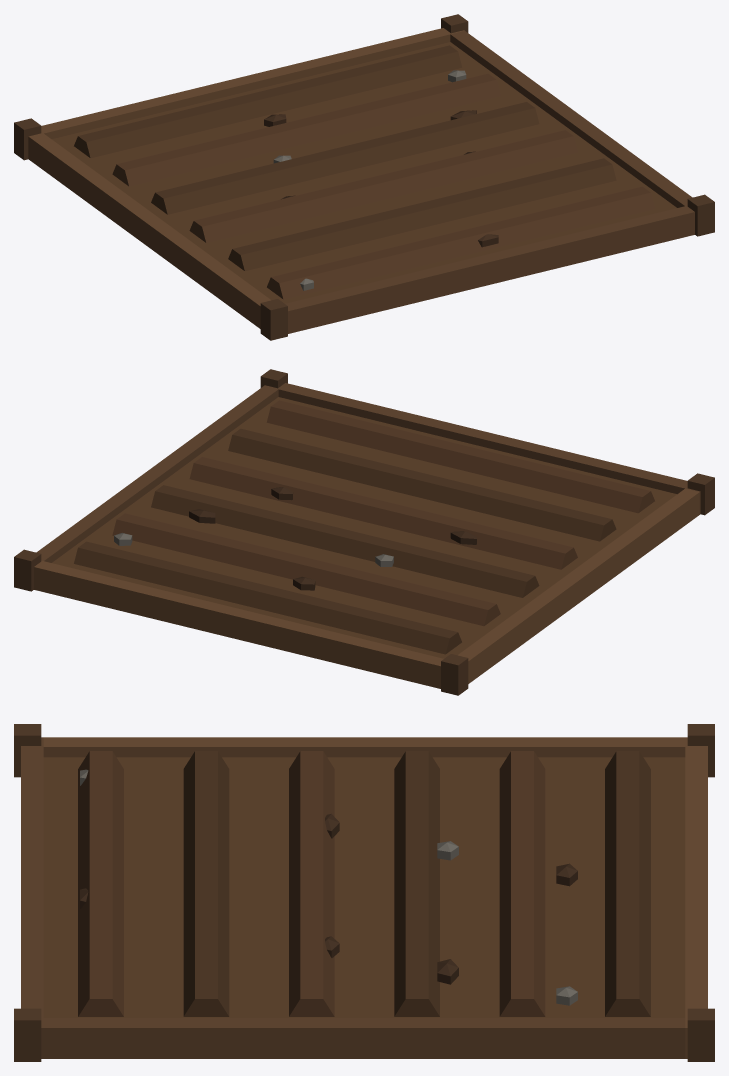
The model's file is crop_plot.glb.
3 views of the same model, one above another, from view 1: azimuth 30°, elevation 25°; view 2: azimuth 150°, elevation 25°; view 3: azimuth 270°, elevation 25° (orthographic). The views are drawn at different scales.
Parts seen in each view (by area): view 1: Plot; view 2: Plot; view 3: Plot.
Boxes of the visible parts, x1,y1,x2,y2 form: Plot: (14,14,714,340); Plot: (14,369,714,695); Plot: (14,724,714,1061).
Size of the model in its own units: 3.06 by 0.2 by 3.06.
